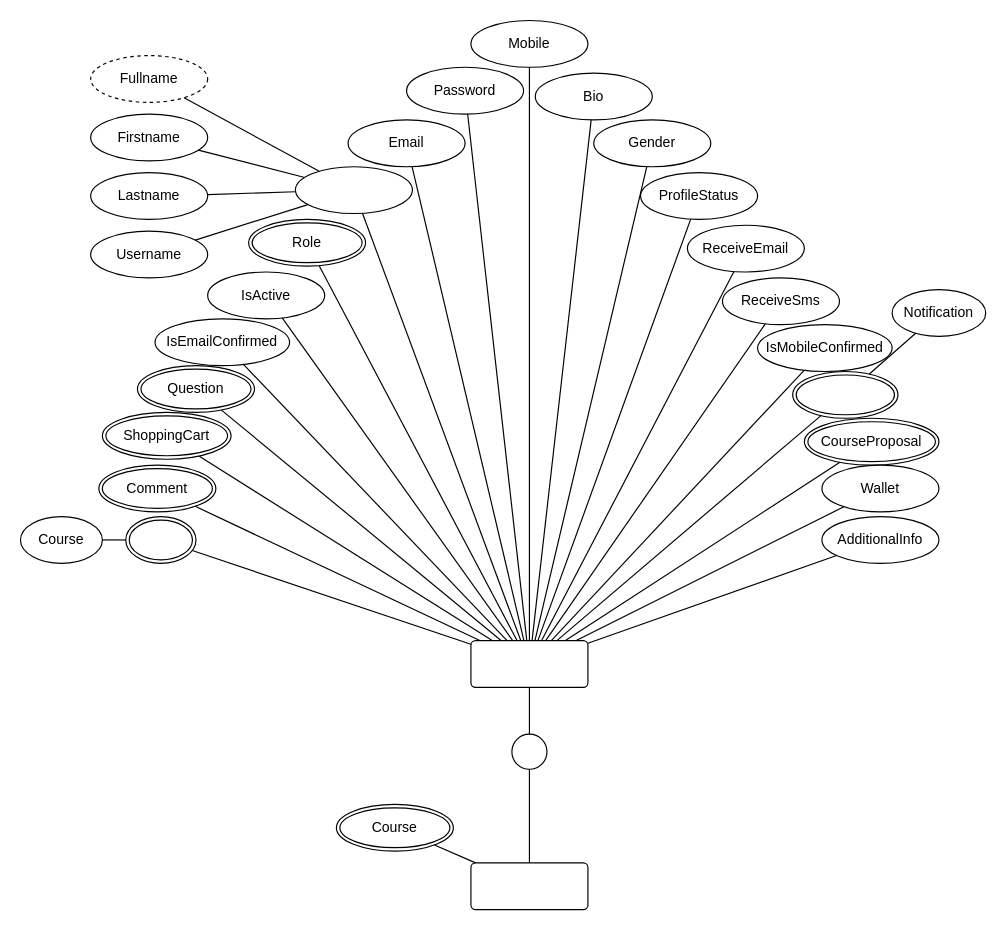
This 1006x930 diagram has some shape labels left out. The centre of each missing label's shape, as x and y in pixels:
"BasicInfo" belongs at point 353,190.
"Buy" belongs at point 160,539.
"Receive" belongs at point 845,394.
"Teacher" belongs at point 529,886.
"User" belongs at point 529,663.
